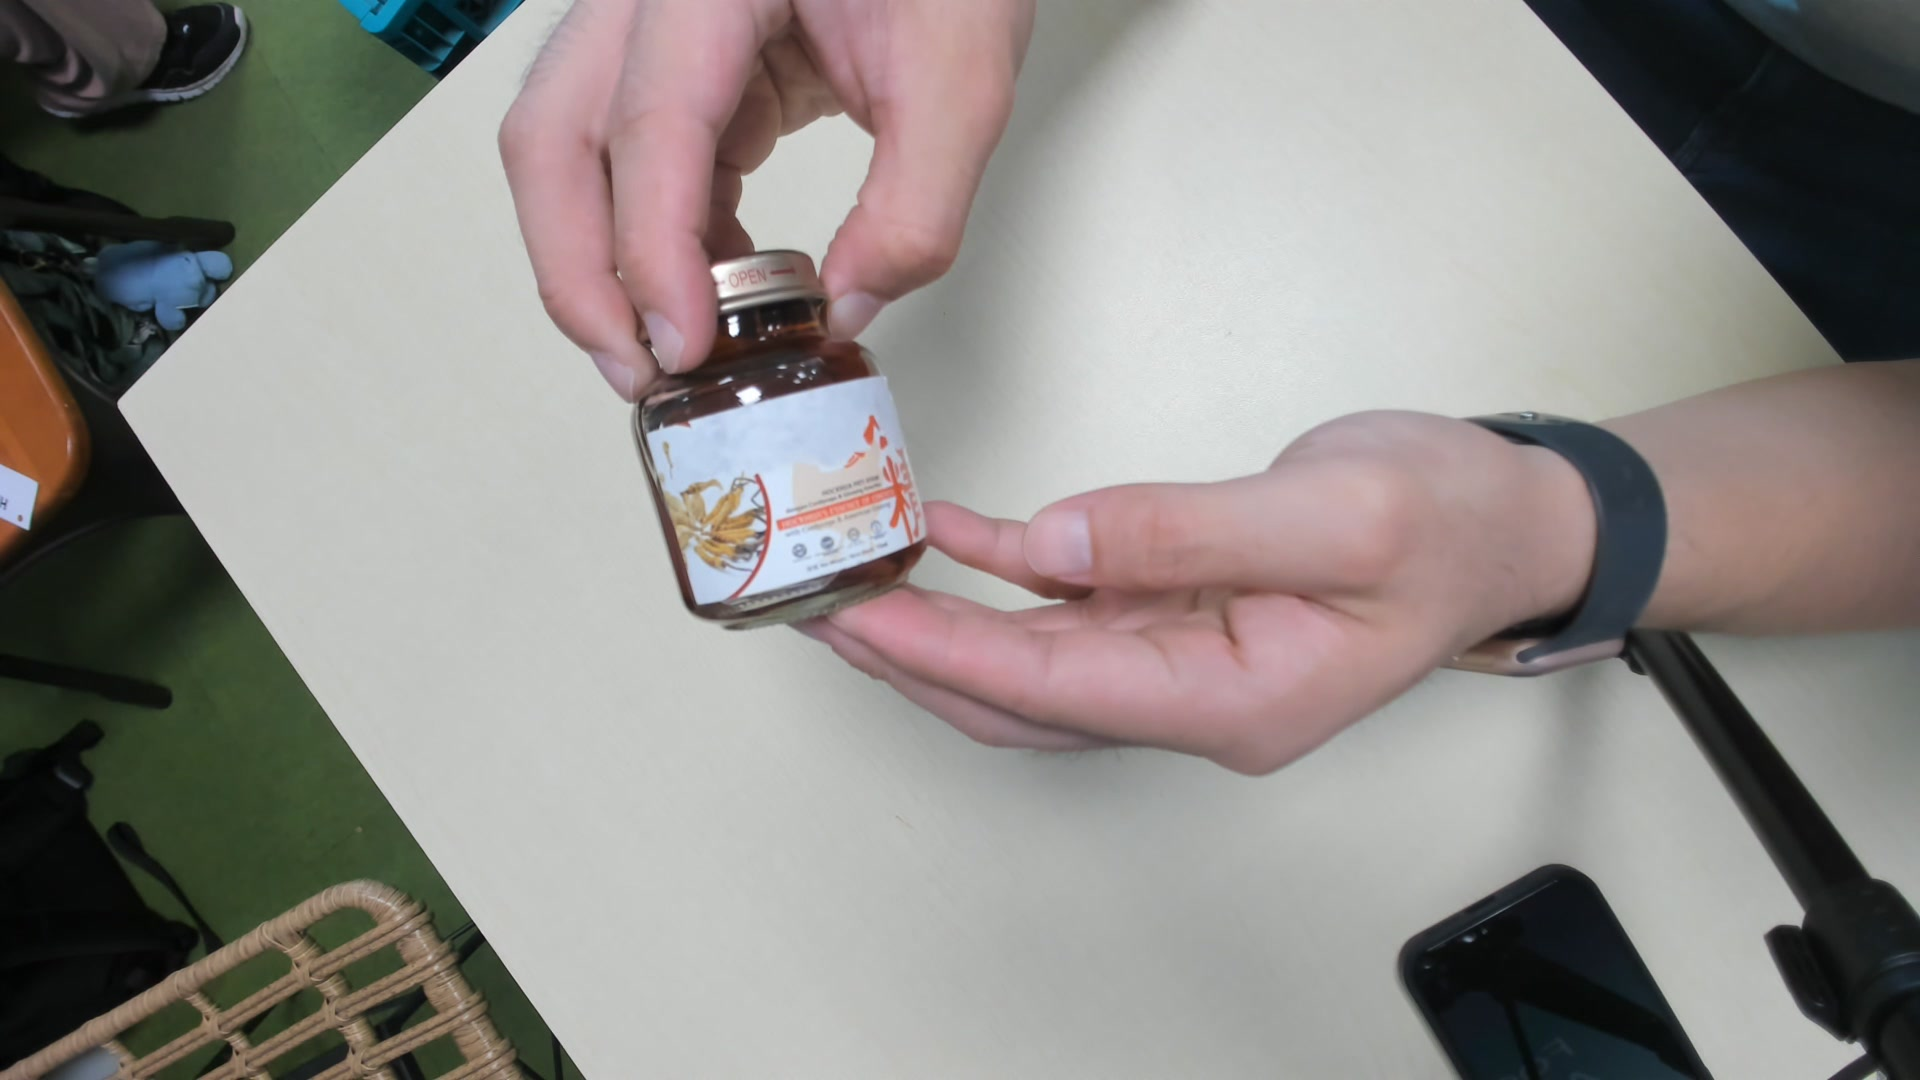OtherSauceDressing_0-99g_NonHalal_NonHealthy: (632, 256, 928, 632)
